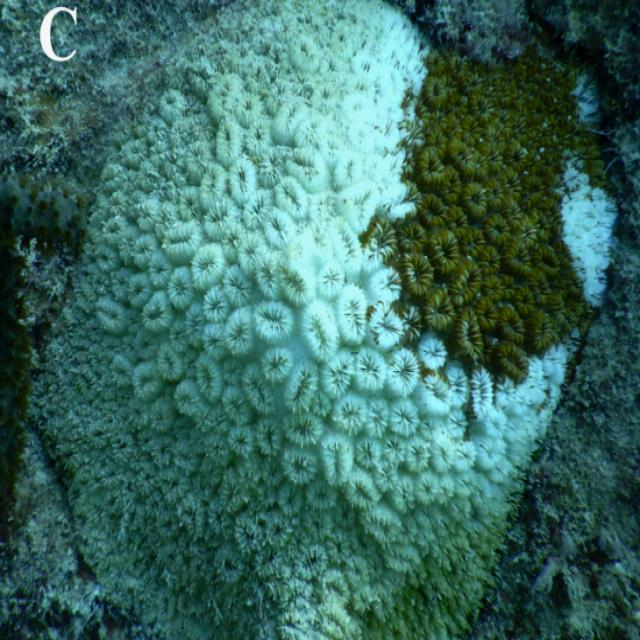Coral: (35, 0, 618, 640)
